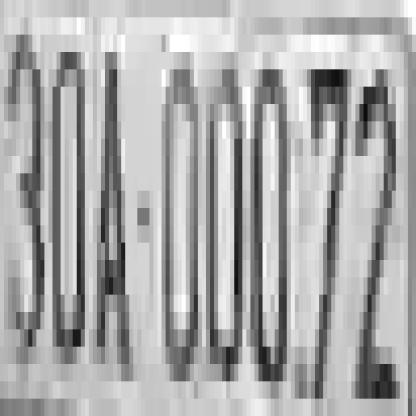0: (246, 69, 287, 364), (161, 69, 198, 364), (206, 69, 242, 364), (52, 52, 85, 347)
2: (351, 70, 396, 382)
3: (8, 34, 45, 346)
7: (307, 70, 347, 382)
A: (97, 52, 133, 347)
